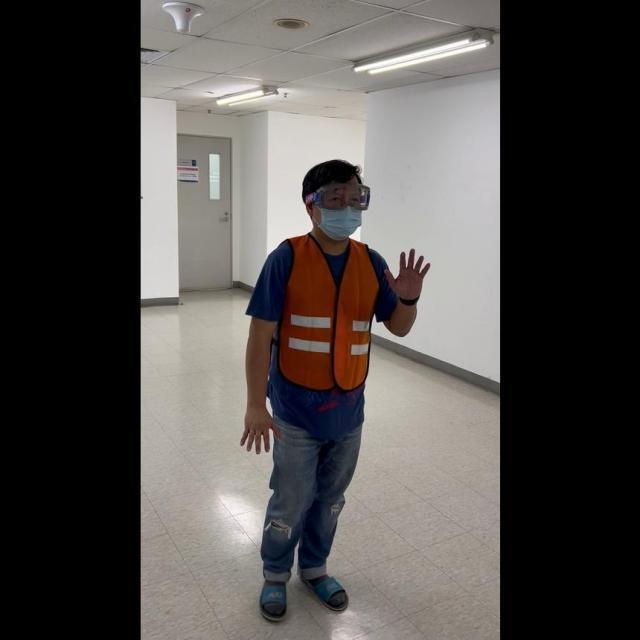bare_hand: (383, 244, 430, 302), (238, 394, 277, 455)
